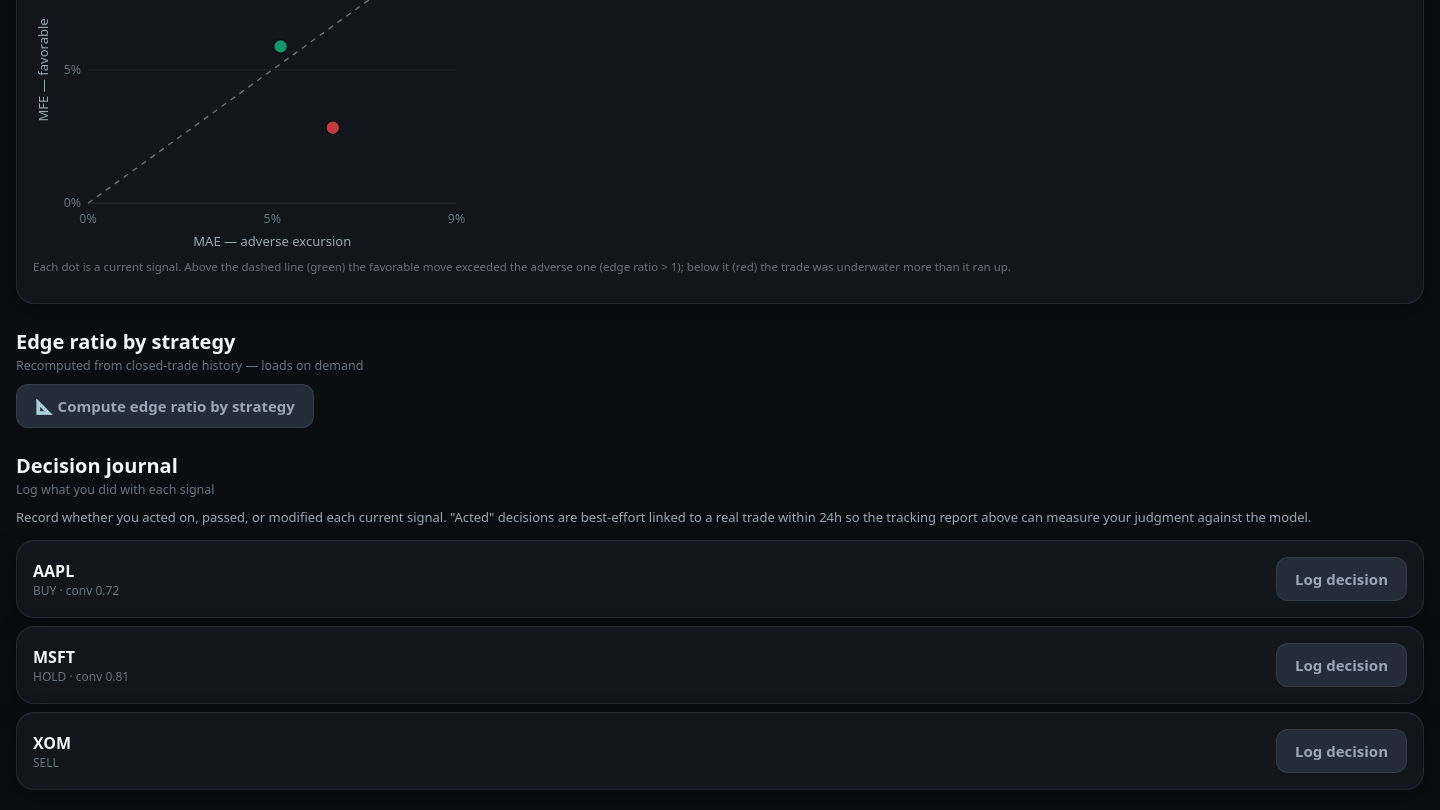
Calibration screen (real mock API) › lazy-loads edge-by-strategy only after the Compute button is clicked
The image size is (1440, 810).
(page scrolled)
Expected: the heading "Edge ratio by strategy" is shown, [16,328,235,354]
Click the button "📐 Compute edge ratio by strategy" at point(165, 406), box [16,384,314,428]
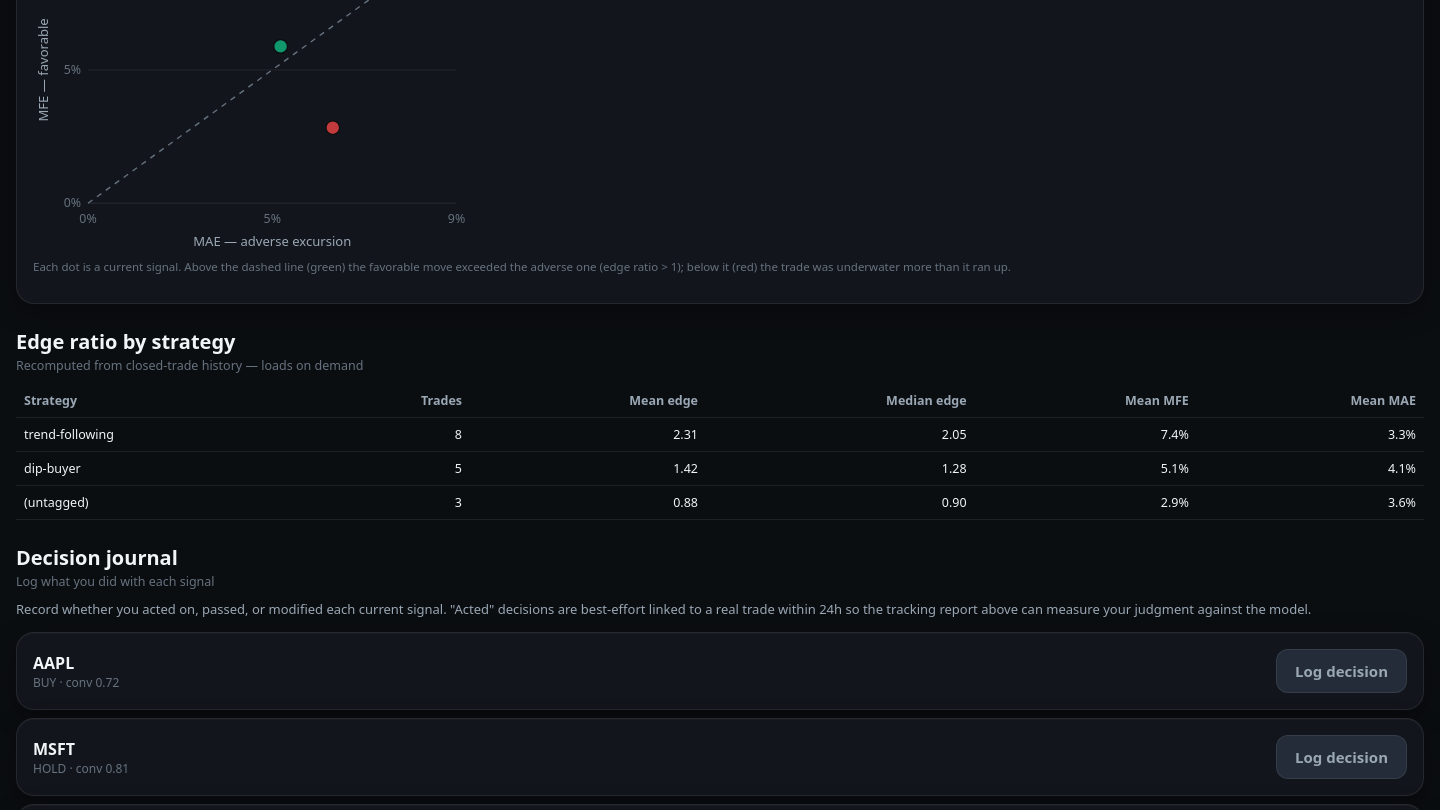
Result: the text "trend-following" is shown at [16,417,311,451]
